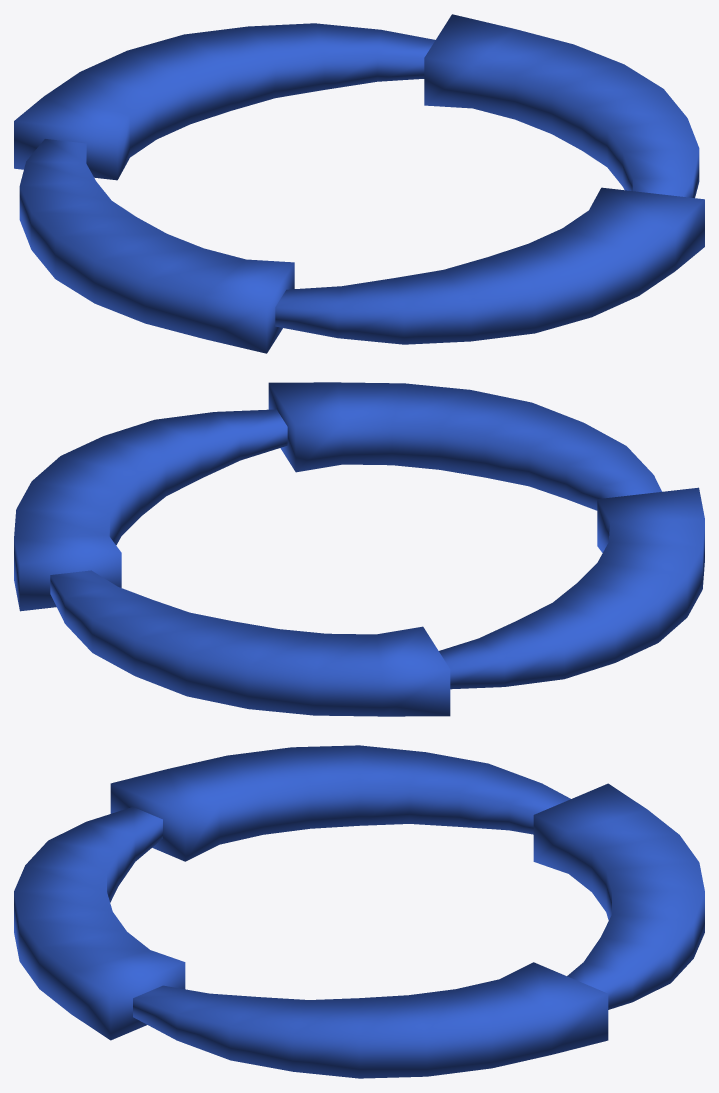
The model's file is cira4.fbx.
3 renders of one model, top to bottom at view 1: azimuth 30°, elevation 25°; view 2: azimuth 150°, elevation 25°; view 3: azimuth 270°, elevation 25°, orthographic.
Visible parts, largest first — view 1: Cira-full; view 2: Cira-full; view 3: Cira-full.
Part boxes in pixels (x1,y1,x2,y2): Cira-full: (14,14,704,353); Cira-full: (14,382,704,716); Cira-full: (14,745,704,1078).
Size of the model in its own units: 1.96 by 0.1468 by 1.96.
